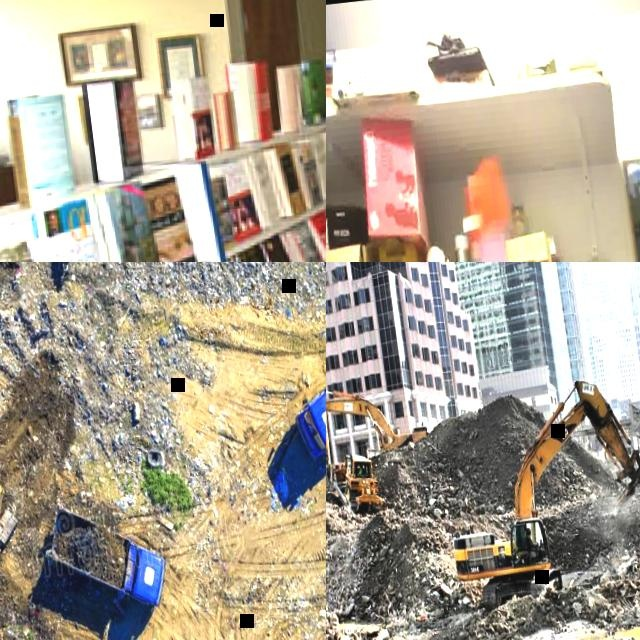NO-Hardhat: (526, 526, 531, 532)
Person: (524, 524, 536, 546), (356, 464, 364, 476)
Safety Cone: (414, 138, 577, 262)
Safety Vest: (357, 468, 363, 476)
machinery: (432, 365, 640, 619), (39, 486, 173, 625), (326, 375, 433, 491), (282, 323, 326, 481), (329, 449, 386, 516)
